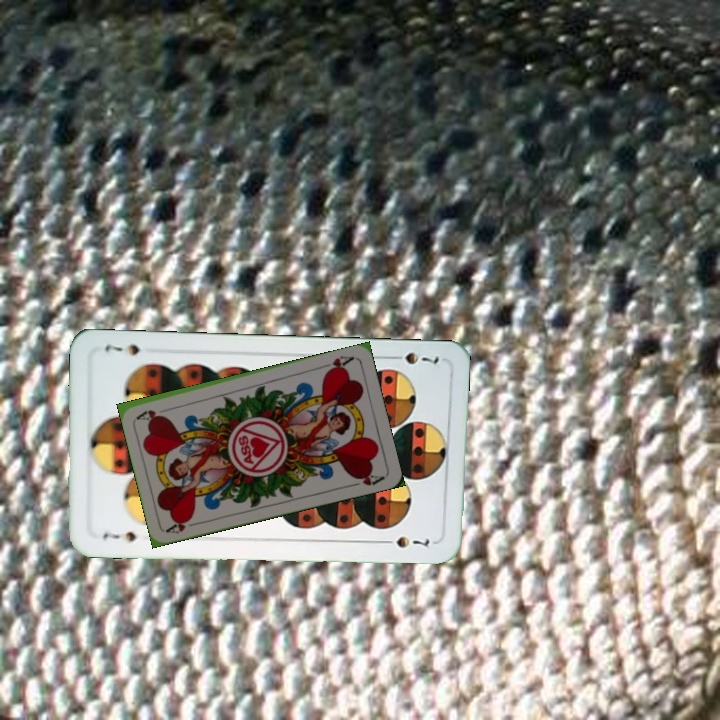HA: (317, 352, 357, 376), (163, 513, 203, 536)
S7: (384, 348, 442, 367), (98, 527, 139, 544)
